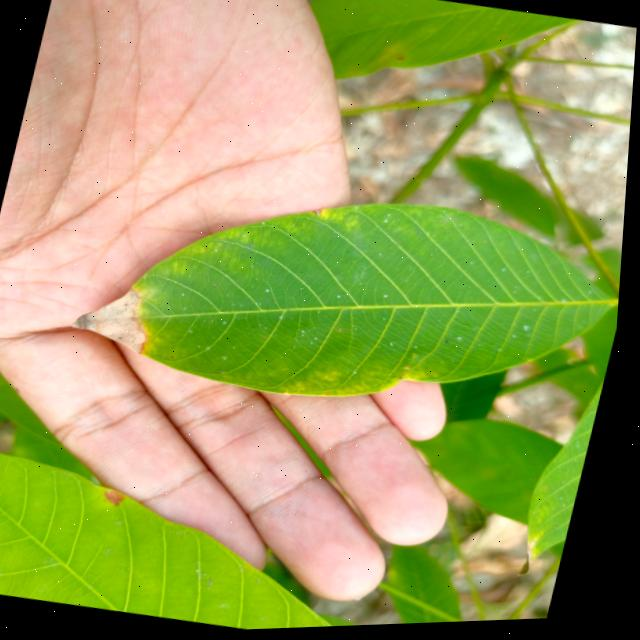Leaf-Blight: (71, 280, 162, 357)
